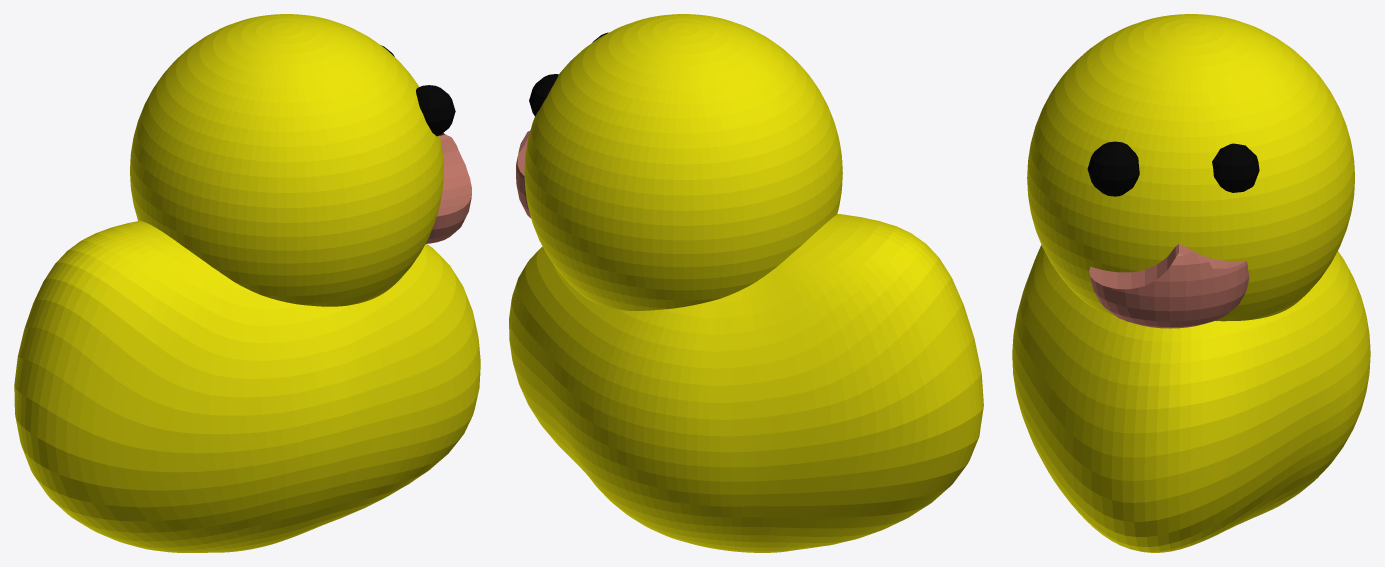
File: rubberduck.glb
The picture shows the model from 3 angles, left to right: view 1: azimuth 30°, elevation 25°; view 2: azimuth 150°, elevation 25°; view 3: azimuth 270°, elevation 25°; orthographic projection. The views are drawn at different scales.
Parts seen in each view (by area): view 1: Sphere; view 2: Sphere; view 3: Sphere.
Part boxes in pixels (x1=…): Sphere: x1=14, y1=14, x2=480, y2=552; Sphere: x1=509, y1=14, x2=983, y2=552; Sphere: x1=1012, y1=14, x2=1370, y2=552.
Size of the model in its own units: 2.21 by 2.31 by 1.47.
